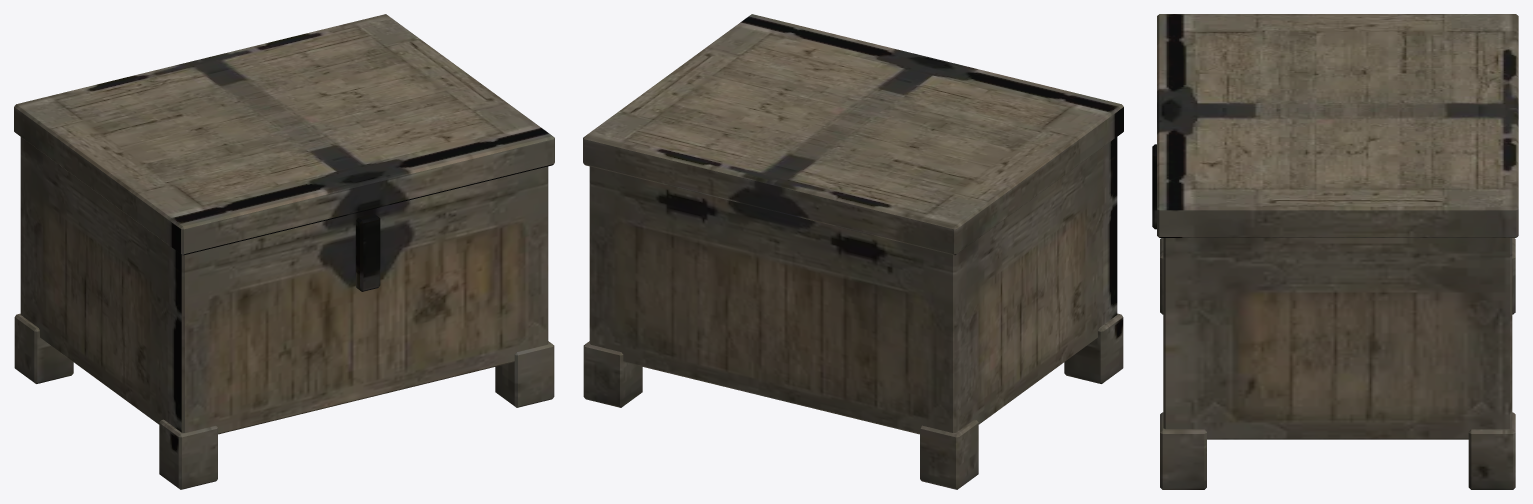
The model's file is chest-b.glb.
3 views of the same model, side by side, from view 1: azimuth 30°, elevation 25°; view 2: azimuth 150°, elevation 25°; view 3: azimuth 270°, elevation 25° (orthographic). The views are drawn at different scales.
Parts seen in each view (by area): view 1: chest-plain; view 2: chest-plain; view 3: chest-plain.
Part boxes in pixels (bbox=[...]): chest-plain: bbox=[14, 14, 554, 489]; chest-plain: bbox=[583, 14, 1123, 489]; chest-plain: bbox=[1152, 14, 1518, 489].
Size of the model in its own units: 0.743 by 0.5 by 0.5875.
1 material, 1 textured.
